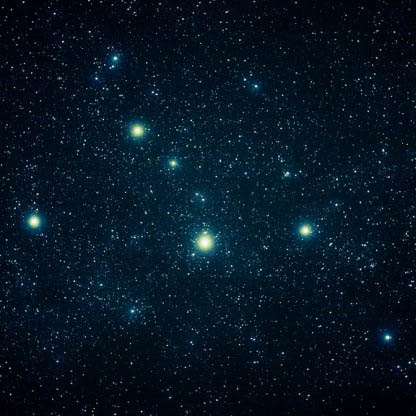Cassiopeia: (122, 118, 180, 168), (180, 226, 227, 261), (287, 211, 321, 246), (376, 320, 403, 350), (22, 208, 48, 236)
